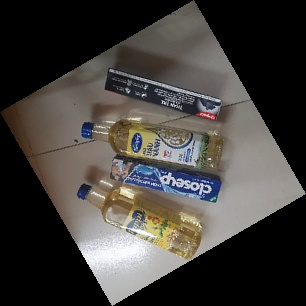CloseUp Tuyet: (109, 154, 222, 206)
Colgate Than: (102, 66, 224, 125)
Happy Soya: (76, 182, 203, 260)
Simply: (80, 116, 225, 173)
